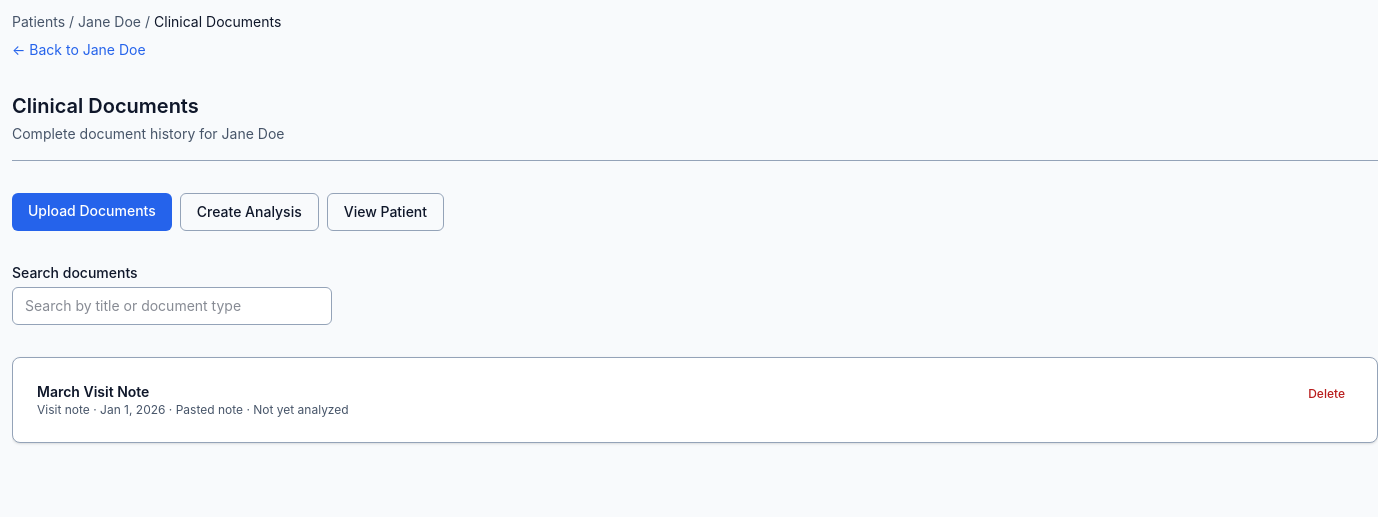
PatientDocumentsPage › expands a document by clicking anywhere on its title and metadata
Expected: the heading "March Visit Note" is shown, [37,383,149,400]
Expected: the text "Patient takes Lisinopril 10 mg." is not shown
Click the button with aria-label "View March Visit Note": [93, 392] box [29,374,1296,426]
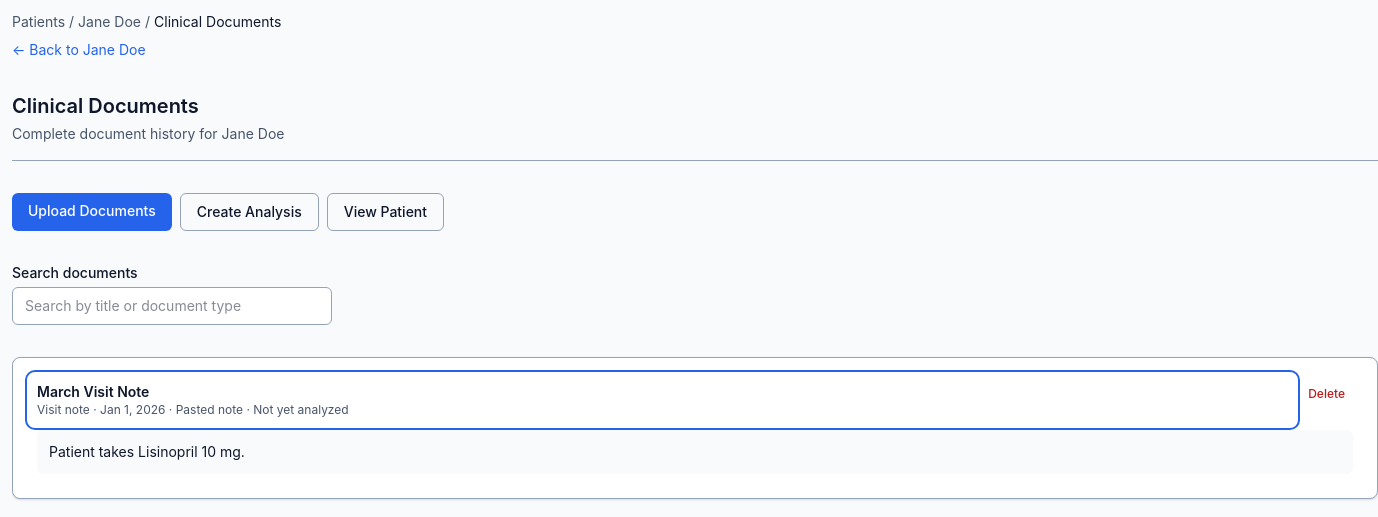
Expected: the text "Patient takes Lisinopril 10 mg." is shown, [37,430,1353,474]
